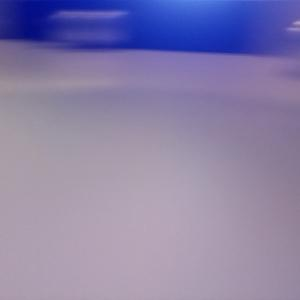alive_ball: (49, 11, 136, 45), (275, 14, 300, 78)
